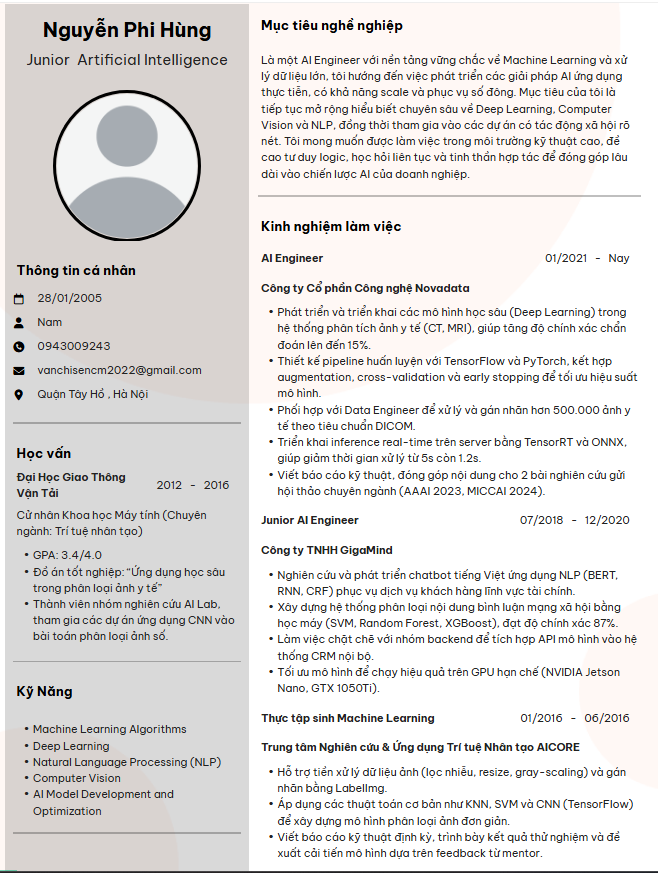address: (11, 381, 155, 401)
gpa: (18, 543, 104, 562)
level: (18, 47, 70, 73)
position: (73, 45, 236, 74)
skill: (11, 675, 227, 825)
